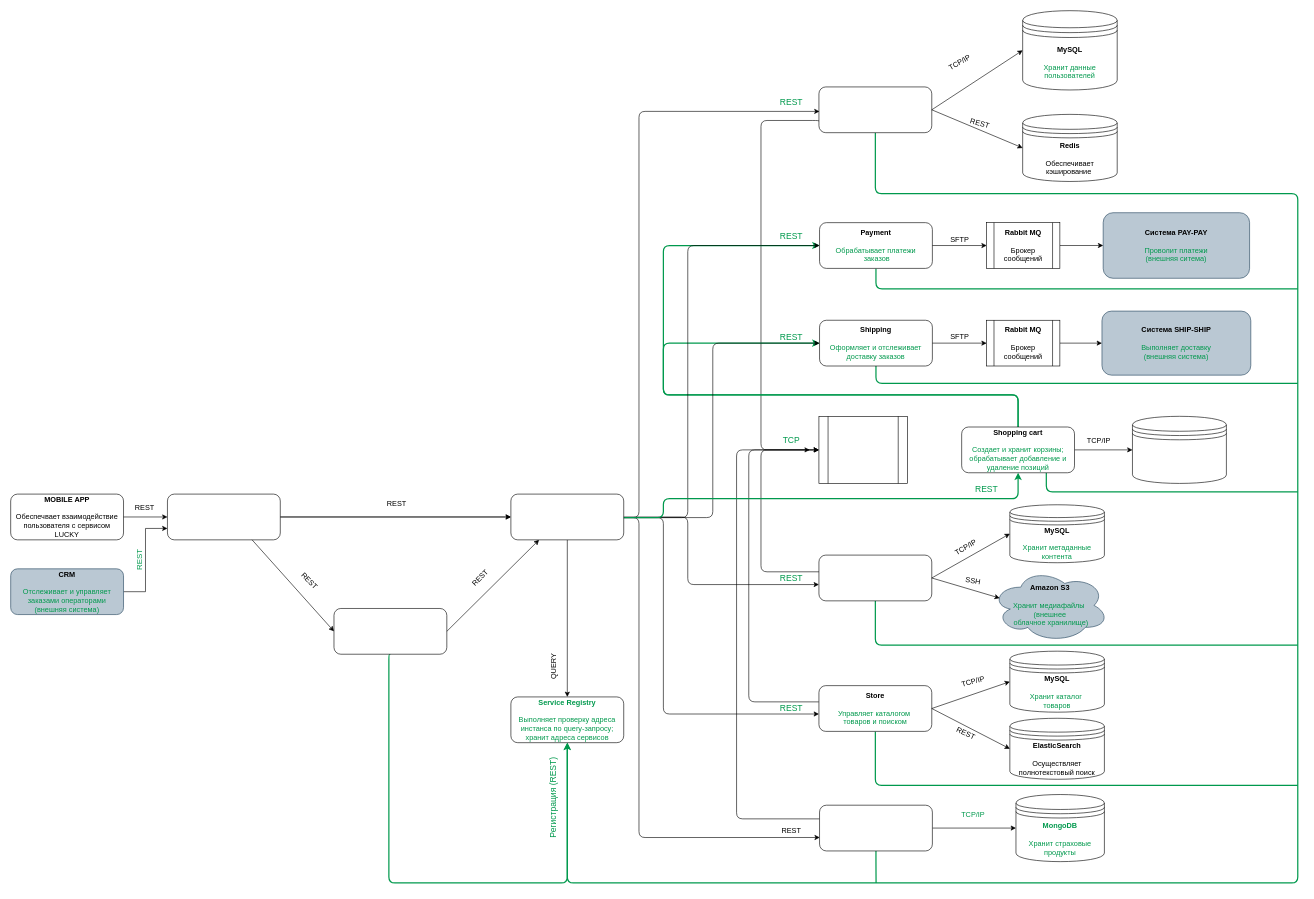
This 1314x899 diagram has some shape labels left out. The centre of each missing label's shape, as x and y in pixels:
"API Gateway Принимает запросы мобильного приложения и CRM" goes at point (223, 516).
"AuthServer Осуществляет авторизацию пользователей в сервисе LUCKY" goes at point (390, 631).
"Films Предоставляет каталог фильмов и медиаконтент" goes at point (875, 577).
"Insurance Предоставляет каталог страховых продуктов для животных" goes at point (875, 828).
"Kafka Обеспечивает обмен сообщениями между сервисами" goes at point (862, 449).
"Load Balancer Распределяет трафик между микросервисами LUCKY" goes at point (567, 516).
"MySQL Хранит список заказов" goes at point (1179, 449).
"User Управляет учетными записями и профилями пользователей" goes at point (875, 109).
